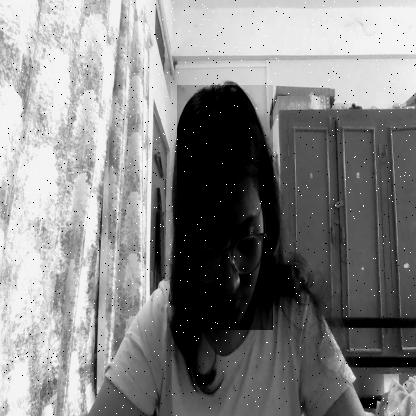Distracted: (178, 85, 274, 330)
